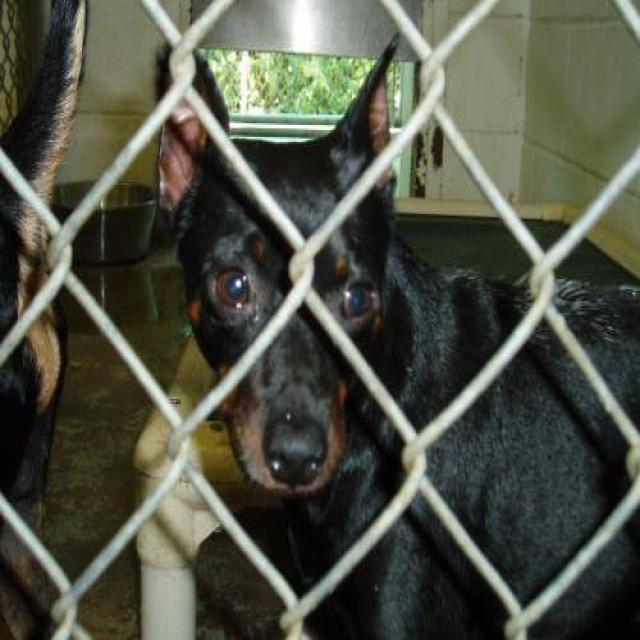dogs: (151, 19, 640, 640)
